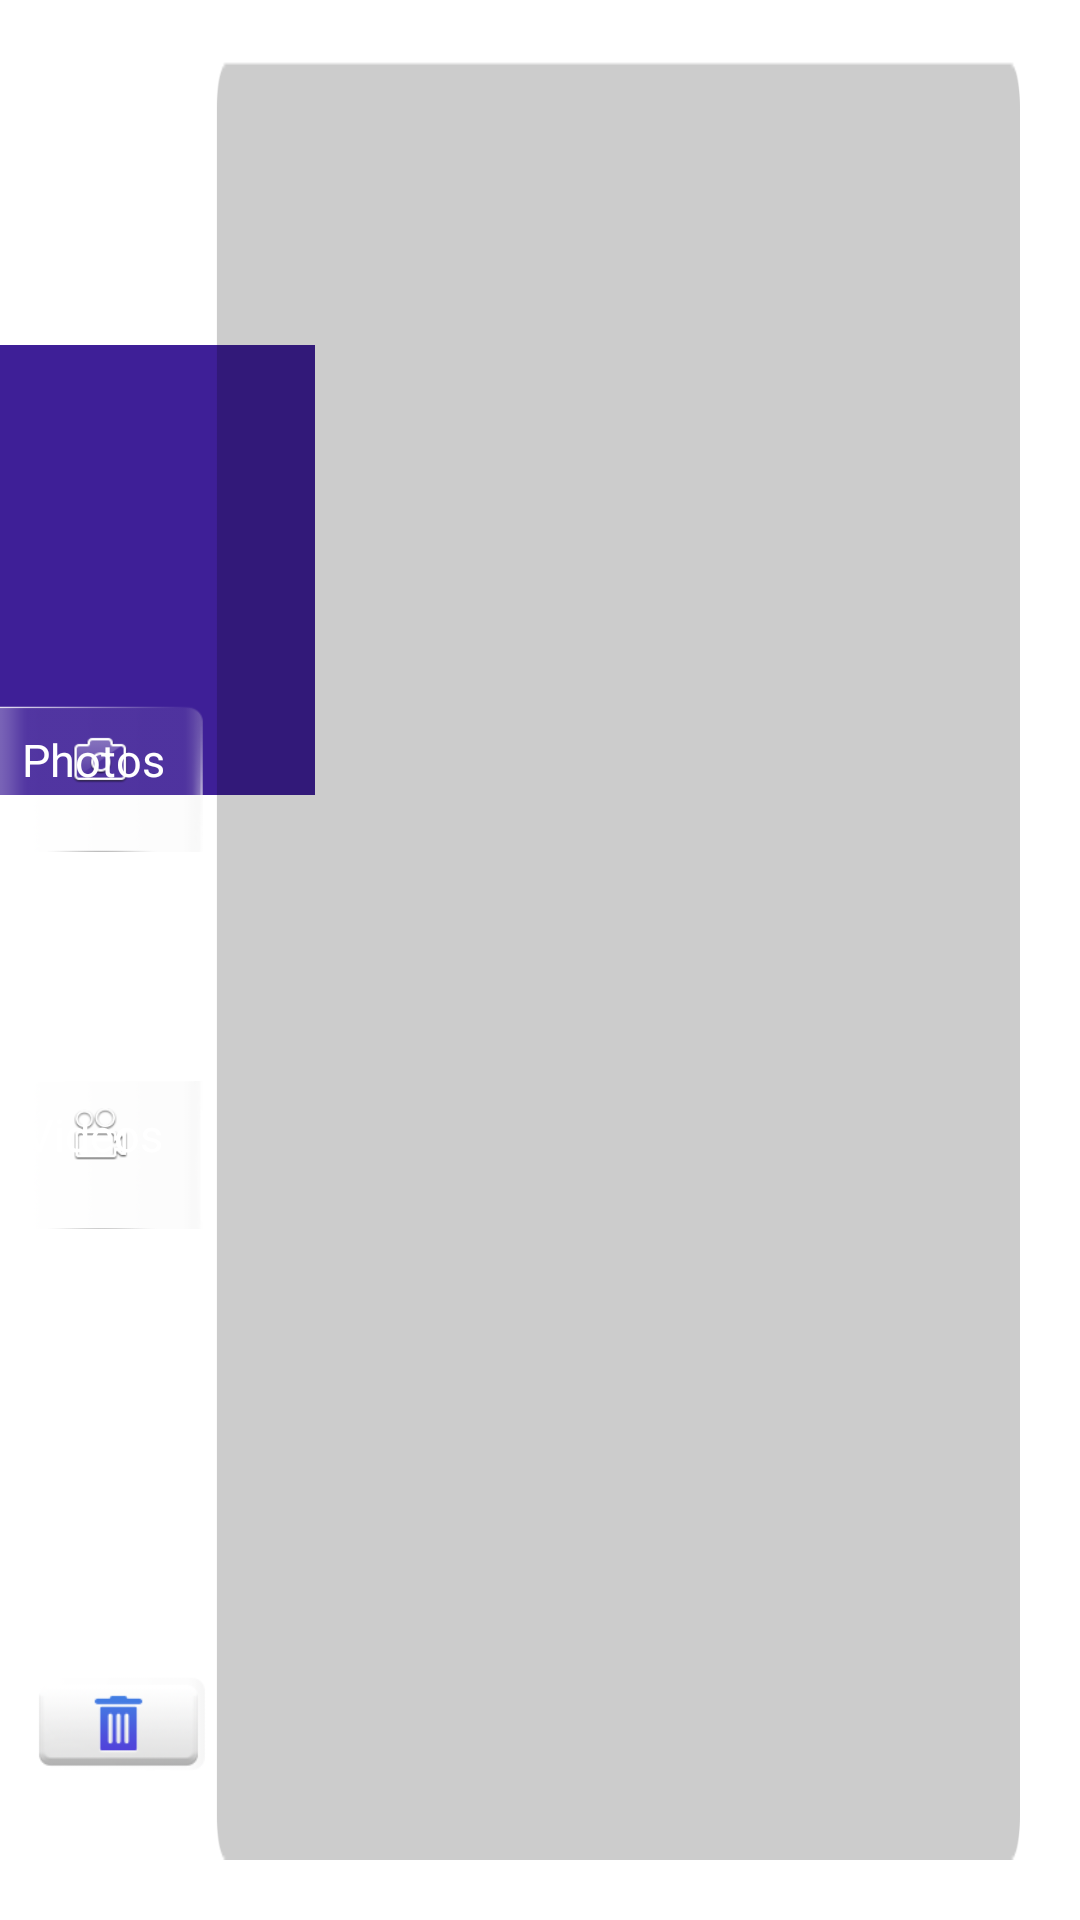

Icon bounding boxes for this 1080*1920 phone screenshot, format rect(x1, y1, x2, y2):
file del: rect(39, 1684, 204, 1766)
